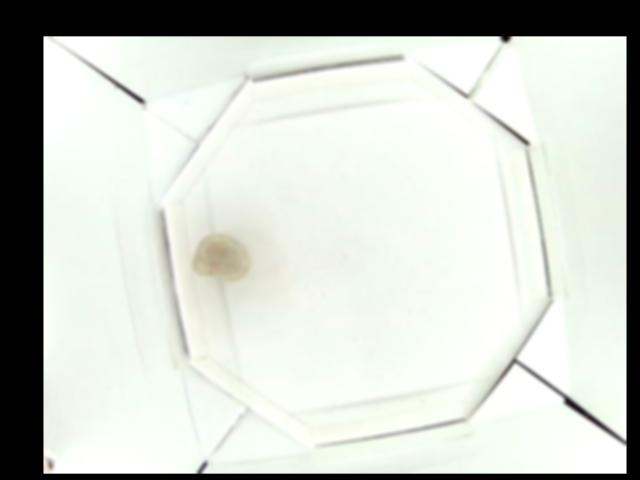Pebble: (191, 234, 250, 279)
